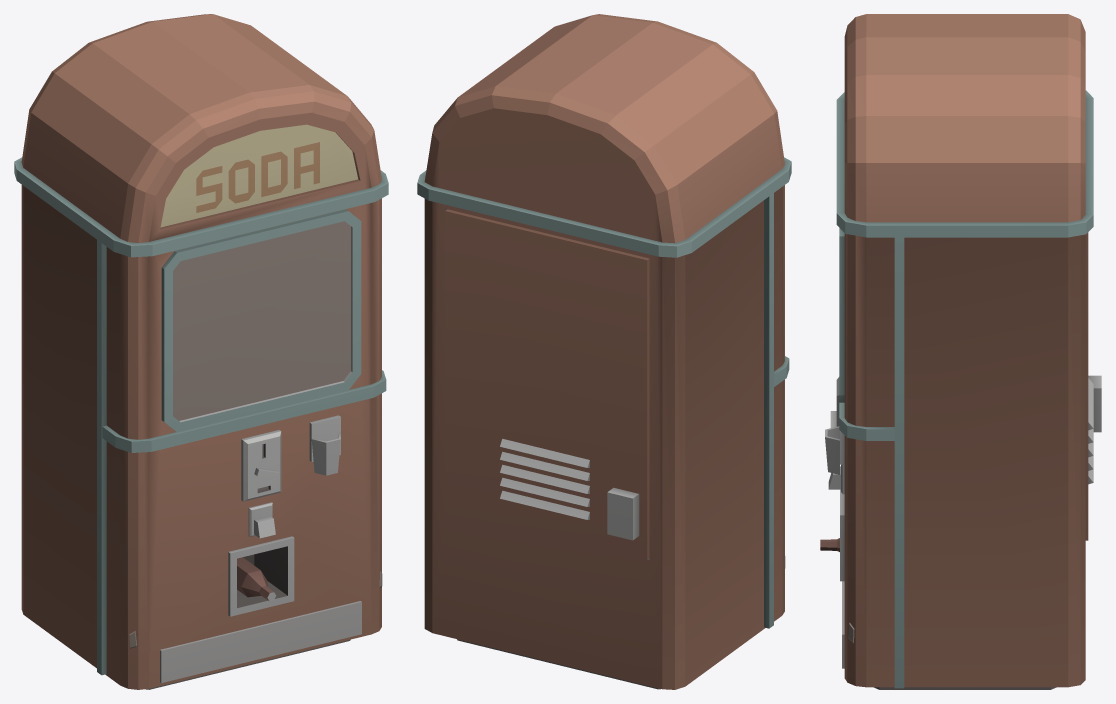
Rendered from soda.glb.
3 views of the same model, side by side, from view 1: azimuth 30°, elevation 25°; view 2: azimuth 150°, elevation 25°; view 3: azimuth 270°, elevation 25° (orthographic). The views are drawn at different scales.
Parts seen in each view (by area): view 1: soda; view 2: soda; view 3: soda.
Boxes of the visible parts, x1,y1,x2,y2 form: soda: (14, 14, 388, 689); soda: (417, 14, 791, 689); soda: (820, 14, 1101, 689).
Bounding box in the file's own units: 0.746 × 1.5 × 0.641.
